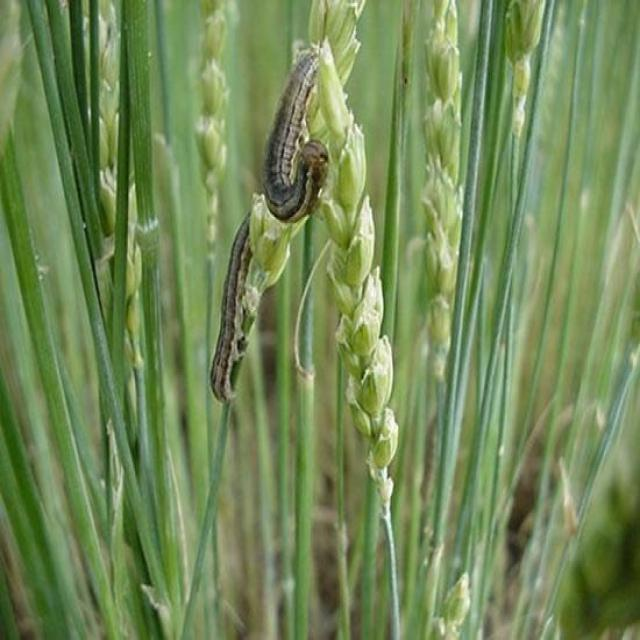army worm: (256, 45, 346, 230), (206, 200, 273, 409)
